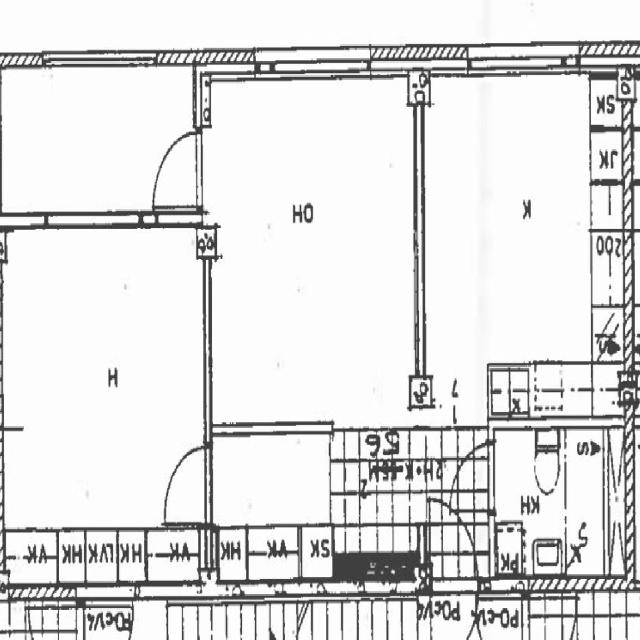door: (430, 500, 478, 602), (149, 132, 203, 206), (159, 448, 212, 521), (446, 440, 495, 510)
